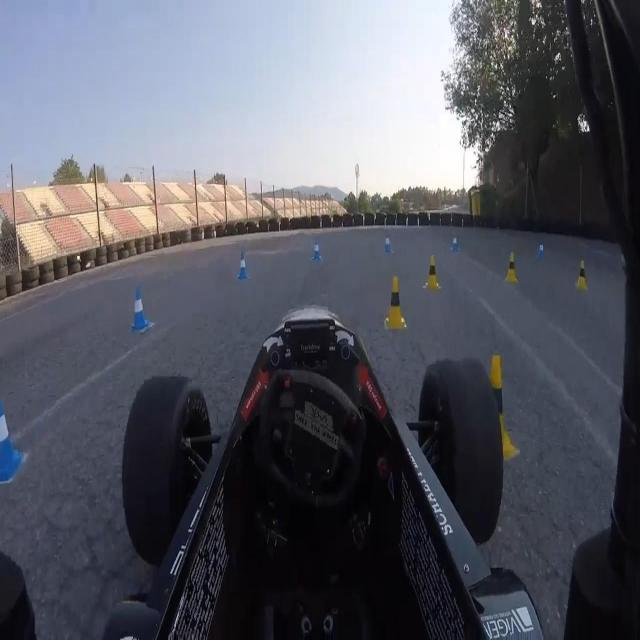blue_cone: (0, 378, 28, 487), (130, 286, 152, 337), (236, 246, 250, 282), (534, 238, 546, 265), (382, 232, 393, 259), (449, 233, 460, 258), (312, 238, 322, 265)
yellow_cone: (480, 358, 519, 468), (384, 278, 407, 334), (423, 253, 440, 293), (502, 252, 520, 288), (575, 259, 591, 292)
